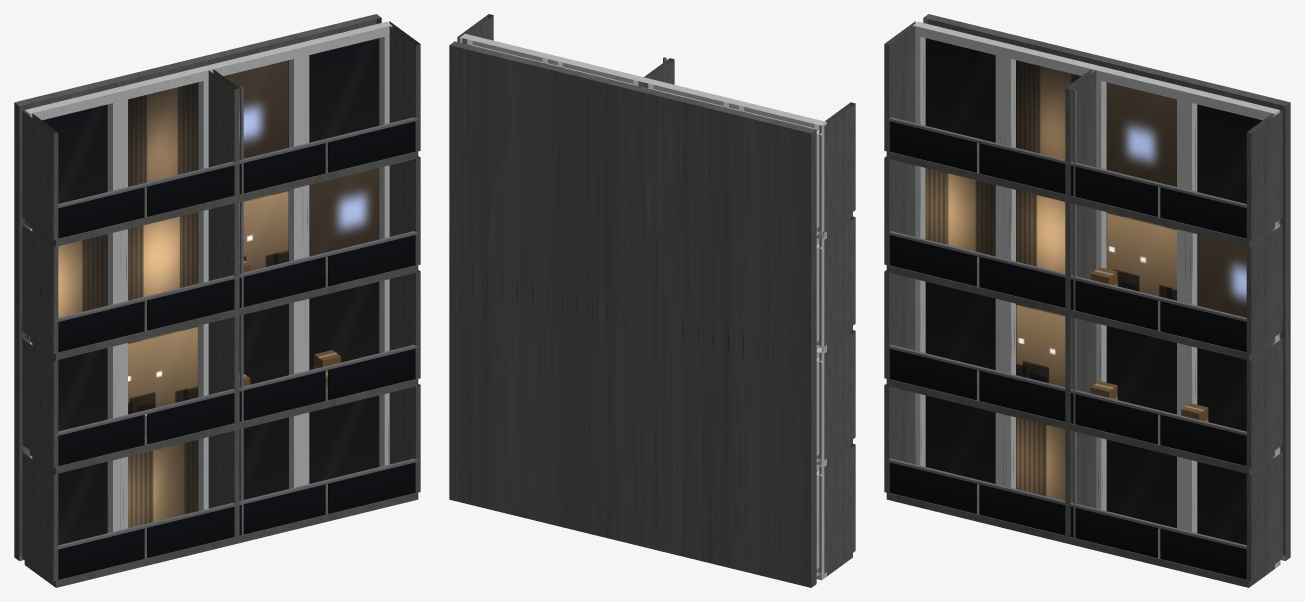
File: SM_INFD_FacadePanel_RES.fbx
3 renders of one model, left to right at view 1: azimuth 30°, elevation 25°; view 2: azimuth 150°, elevation 25°; view 3: azimuth 330°, elevation 25°, orthographic.
Visible parts, largest first — view 1: SM_INFD_FacadePanel_RES; view 2: SM_INFD_FacadePanel_RES; view 3: SM_INFD_FacadePanel_RES.
Boxes of the visible parts, x1,y1,x2,y2 form: SM_INFD_FacadePanel_RES: (14, 14, 420, 587); SM_INFD_FacadePanel_RES: (449, 14, 855, 587); SM_INFD_FacadePanel_RES: (884, 14, 1290, 587).
Bounding box in the file's own units: 12.16 × 14.4 × 2.4.
